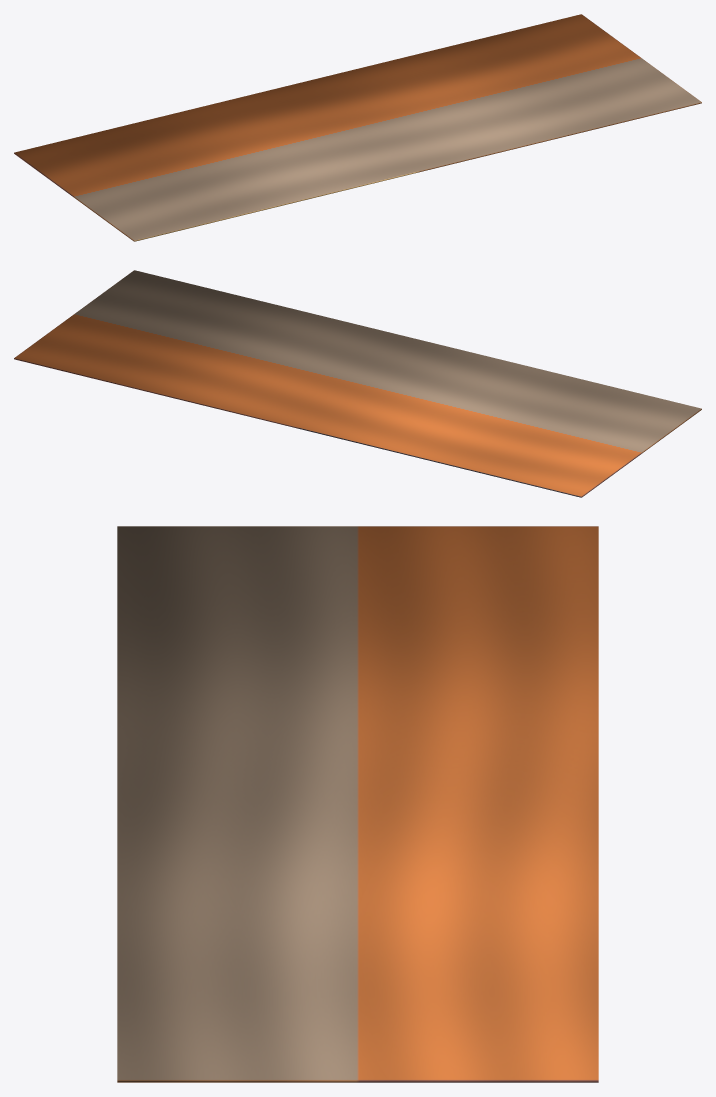
File: bones_silly.glb
3 views of the same model, one above another, from view 1: azimuth 30°, elevation 25°; view 2: azimuth 150°, elevation 25°; view 3: azimuth 270°, elevation 25° (orthographic). The views are drawn at different scales.
Parts seen in each view (by area): view 1: col; view 2: col; view 3: col.
Boxes of the visible parts, box(x1,y1,x2,y2) form: col: box(14, 14, 701, 241); col: box(14, 270, 701, 497); col: box(117, 526, 598, 1082).
Size of the model in its own units: 1.44 by 0.00266 by 0.5285.
1 material, 1 textured.
